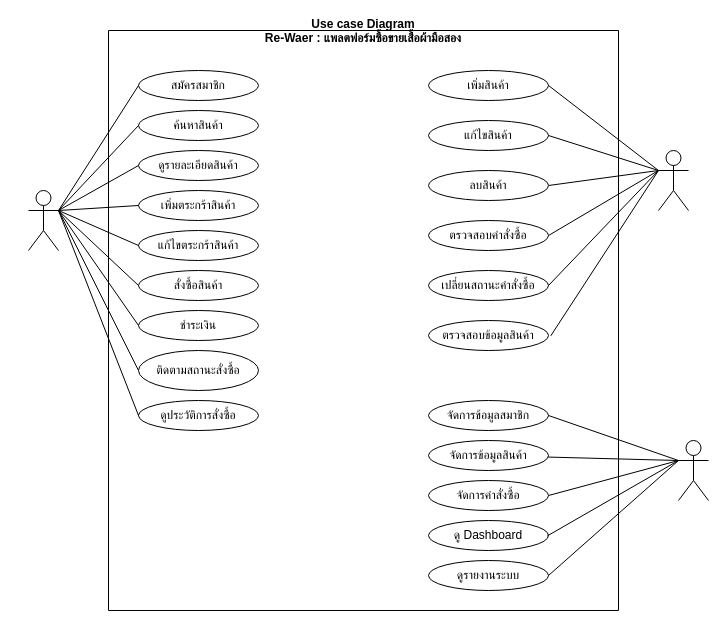
Some shapes in this 727 by 628 pixel diagram are drawn without their labels. Each missing label, with the centre of its shape:
Admin: (x=693, y=470)
Customer: (x=43, y=220)
Staff: (x=673, y=180)
